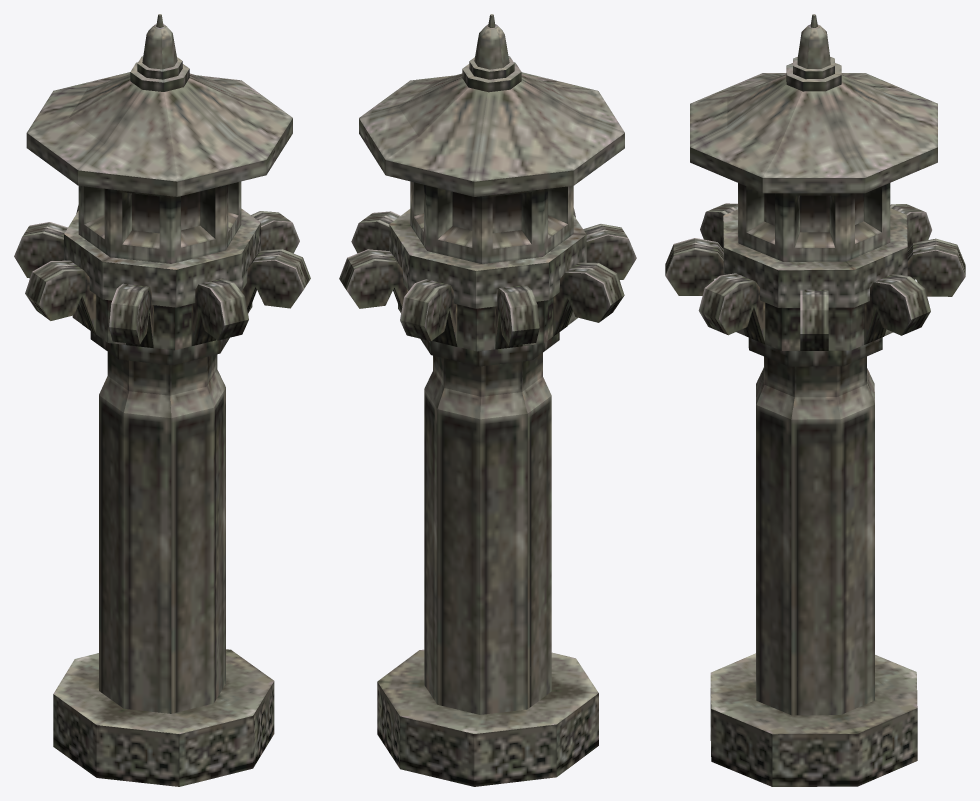
Rendered from b1_018-stonelight-1.glb.
3 renders of one model, left to right at view 1: azimuth 30°, elevation 25°; view 2: azimuth 150°, elevation 25°; view 3: azimuth 270°, elevation 25°, orthographic.
Visible parts, largest first — view 1: b1-018-stonelight-01; view 2: b1-018-stonelight-01; view 3: b1-018-stonelight-01.
Boxes of the visible parts, left/top/right/bottom form: b1-018-stonelight-01: left=14, top=14, right=310, bottom=786; b1-018-stonelight-01: left=339, top=14, right=636, bottom=786; b1-018-stonelight-01: left=665, top=14, right=965, bottom=786.
Size of the model in its own units: 1.87 by 4.99 by 1.87.
1 material, 1 textured.
